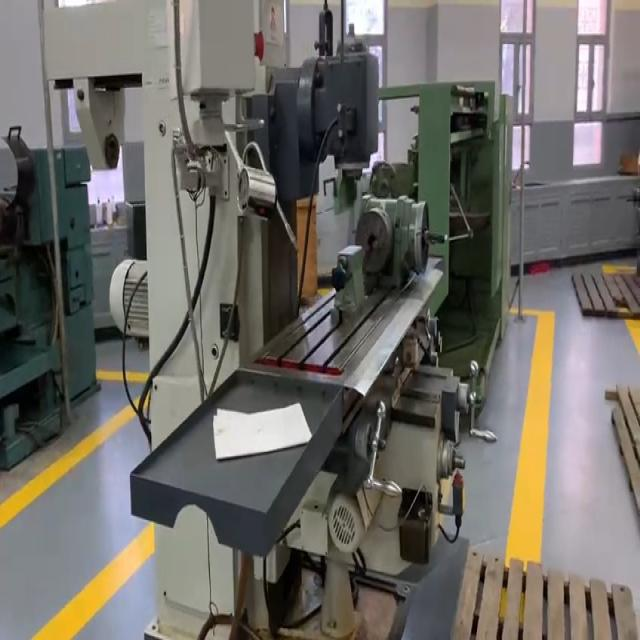tour parallele: (42, 0, 503, 640)
